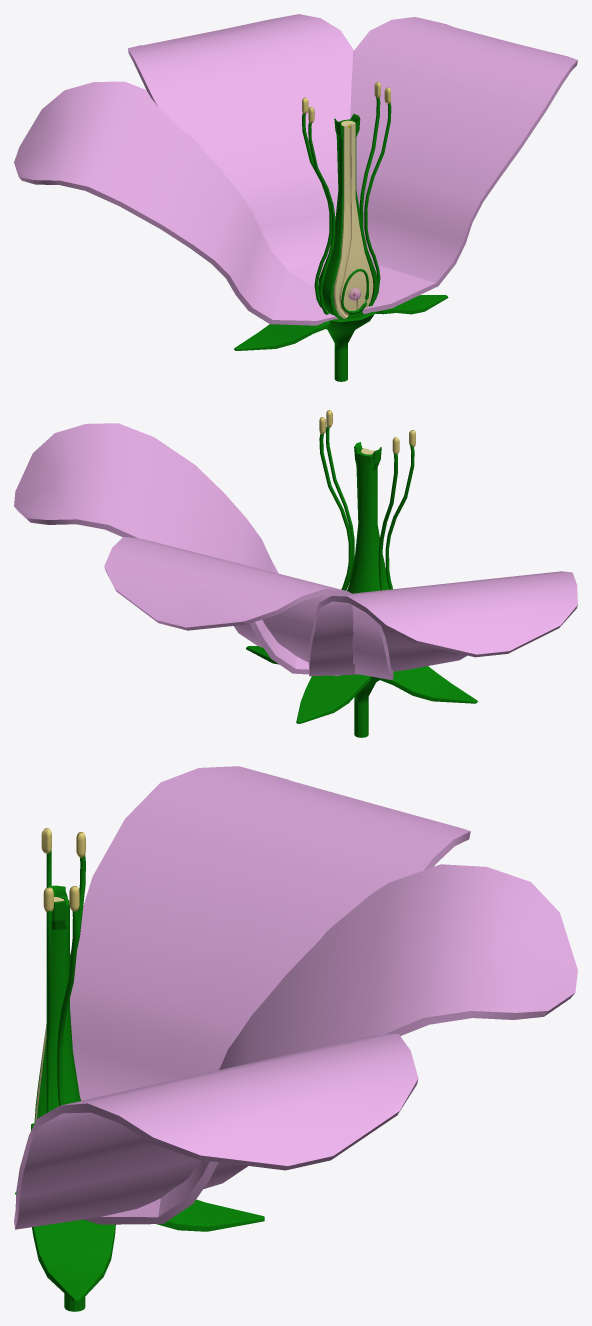
The model's file is flower_anim.fbx.
The picture shows the model from 3 angles, top to bottom: view 1: azimuth 30°, elevation 25°; view 2: azimuth 150°, elevation 25°; view 3: azimuth 270°, elevation 25°; orthographic projection. The views are drawn at different scales.
Visible parts, largest first — view 1: pasted__pCube11, pasted__pCube10, pasted__pCube9, pasted__flower_anatomy1_polySurface2, pasted__polySurface1, pasted__pCube5, pasted__pCylinder16, pasted__pCylinder18, pasted__pCylinder20, pasted__pCube7, pasted__pCylinder19, pasted__pCylinder21; view 2: pasted__pCube11, pasted__pCube9, pasted__pCube10, pasted__polySurface1, pasted__pCube6, pasted__pCube5, pasted__pCylinder16, pasted__pCylinder21, pasted__pCylinder18, pasted__pCylinder19, pasted__pCylinder20; view 3: pasted__pCube9, pasted__pCube10, pasted__pCube11, pasted__pCube7, pasted__polySurface1, pasted__pCube6, pasted__pCylinder21, pasted__pCylinder20.
Part boxes in pixels (<box>): pasted__pCube11: <box>350,17,577,314</box>; pasted__pCube10: <box>128,14,353,287</box>; pasted__pCube9: <box>14,81,348,325</box>; pasted__flower_anatomy1_polySurface2: <box>333,120,373,318</box>; pasted__polySurface1: <box>318,113,377,319</box>; pasted__pCube5: <box>234,321,331,350</box>; pasted__pCylinder16: <box>326,311,375,381</box>; pasted__pCylinder18: <box>308,122,335,314</box>; pasted__pCylinder20: <box>364,103,391,299</box>; pasted__pCube7: <box>375,295,448,314</box>; pasted__pCylinder19: <box>302,113,331,307</box>; pasted__pCylinder21: <box>359,95,380,229</box>; pasted__pCube11: <box>14,423,340,675</box>; pasted__pCube9: <box>308,571,577,676</box>; pasted__pCube10: <box>104,537,393,680</box>; pasted__polySurface1: <box>347,442,389,593</box>; pasted__pCube6: <box>296,674,371,723</box>; pasted__pCube5: <box>376,666,477,703</box>; pasted__pCylinder16: <box>354,676,379,737</box>; pasted__pCylinder21: <box>319,434,352,590</box>; pasted__pCylinder18: <box>385,444,414,589</box>; pasted__pCylinder19: <box>378,453,397,590</box>; pasted__pCylinder20: <box>325,426,354,590</box>; pasted__pCube9: <box>70,766,470,1100</box>; pasted__pCube10: <box>84,864,577,1224</box>; pasted__pCube11: <box>14,1034,418,1229</box>; pasted__pCube7: <box>32,1219,115,1302</box>; pasted__polySurface1: <box>34,885,81,1123</box>; pasted__pCube6: <box>156,1199,264,1231</box>; pasted__pCylinder21: <box>57,910,78,1105</box>; pasted__pCylinder20: <box>46,910,51,1112</box>.
Bounding box in the file's own units: 62.44 × 32.85 × 37.47.
